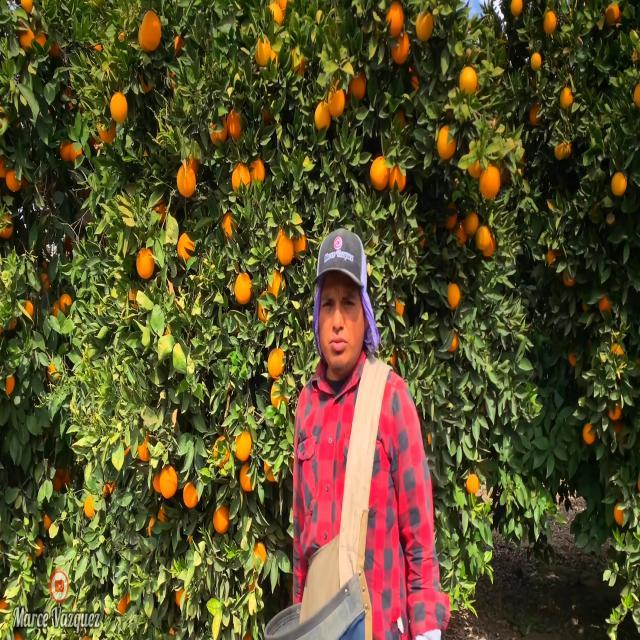Jeruk Sudah Matang: (138, 9, 164, 54), (479, 160, 502, 202), (436, 120, 458, 163), (207, 110, 229, 149), (389, 29, 412, 66), (174, 164, 197, 200), (325, 80, 345, 120), (444, 282, 466, 318), (176, 230, 198, 265), (414, 6, 434, 44), (266, 346, 288, 380), (369, 154, 388, 192), (458, 64, 478, 100), (228, 107, 248, 141), (135, 246, 155, 279), (389, 156, 407, 192), (233, 272, 253, 304), (219, 212, 239, 244), (238, 462, 257, 495), (110, 90, 128, 124), (386, 2, 404, 36), (232, 162, 250, 196), (348, 68, 366, 102), (232, 432, 252, 462), (314, 100, 331, 135), (212, 506, 233, 534), (160, 465, 178, 497), (249, 155, 266, 188), (250, 538, 268, 569), (271, 379, 290, 408), (264, 2, 286, 27), (276, 234, 294, 264), (254, 34, 270, 66), (292, 230, 309, 260), (610, 170, 628, 198), (4, 166, 22, 193), (172, 584, 192, 608), (442, 204, 459, 232), (183, 481, 198, 512), (476, 224, 490, 253), (561, 268, 579, 290), (543, 9, 557, 36), (597, 294, 614, 316), (558, 86, 574, 108), (583, 422, 597, 447), (70, 138, 83, 164), (614, 500, 626, 528), (528, 101, 542, 125), (464, 210, 478, 233), (49, 300, 62, 324), (605, 4, 620, 24), (3, 373, 16, 396), (60, 294, 74, 315), (466, 472, 479, 494), (83, 498, 96, 518), (546, 248, 560, 266), (22, 300, 34, 320), (531, 52, 542, 72), (511, 0, 524, 16)
